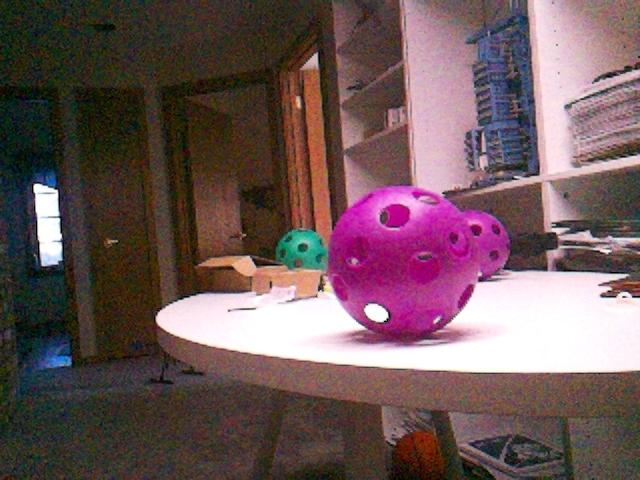Green: (274, 227, 328, 273)
Purple: (325, 186, 481, 338), (459, 209, 510, 280)
